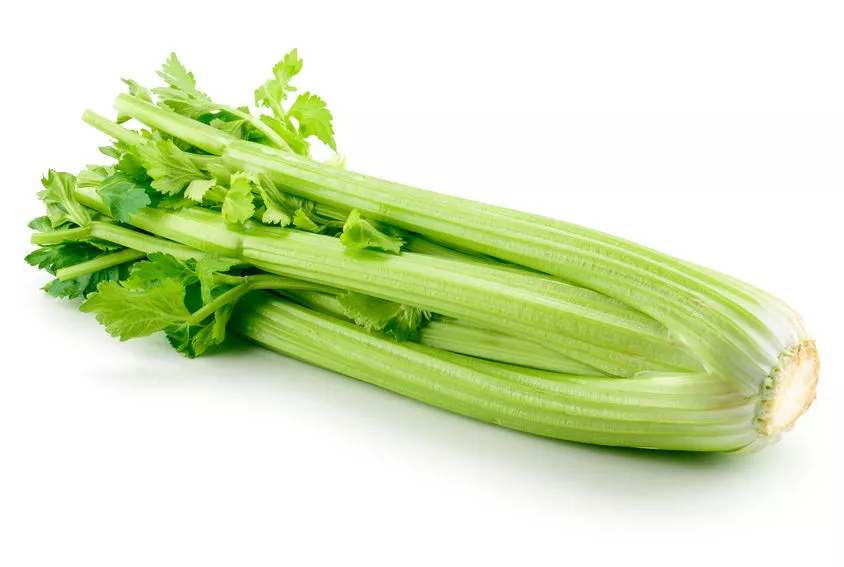Seledri: (45, 54, 815, 483)
